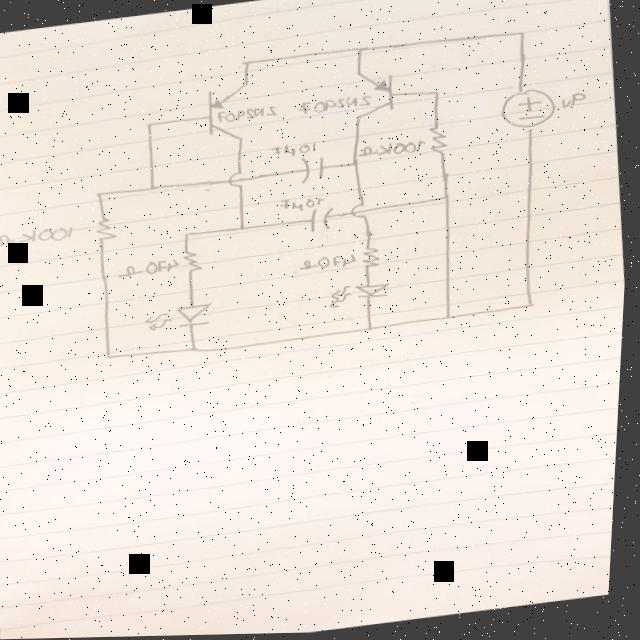capacitor: (296, 153, 331, 186), (306, 204, 339, 233)
crossover: (350, 202, 371, 222), (227, 169, 247, 189)
diode: (143, 301, 218, 333), (328, 280, 395, 311)
junction: (443, 312, 459, 324), (146, 182, 161, 194), (527, 298, 541, 310), (365, 323, 380, 334), (104, 351, 119, 362), (236, 223, 251, 234), (143, 118, 157, 129), (92, 190, 107, 199), (429, 89, 443, 98), (238, 59, 252, 68), (191, 344, 204, 353), (352, 46, 365, 55), (441, 193, 454, 202), (515, 29, 526, 39), (350, 160, 362, 169), (184, 229, 195, 237)
resistor: (425, 122, 452, 158), (93, 214, 122, 242), (180, 248, 207, 275), (361, 244, 385, 270)
source: (495, 87, 559, 133)
text: (0, 223, 78, 250), (296, 94, 374, 118), (214, 104, 279, 127), (118, 257, 182, 279), (363, 139, 429, 160), (298, 253, 359, 274), (269, 141, 319, 159), (281, 194, 328, 213), (558, 91, 588, 113)
transistor: (202, 79, 259, 143), (348, 68, 400, 121)
